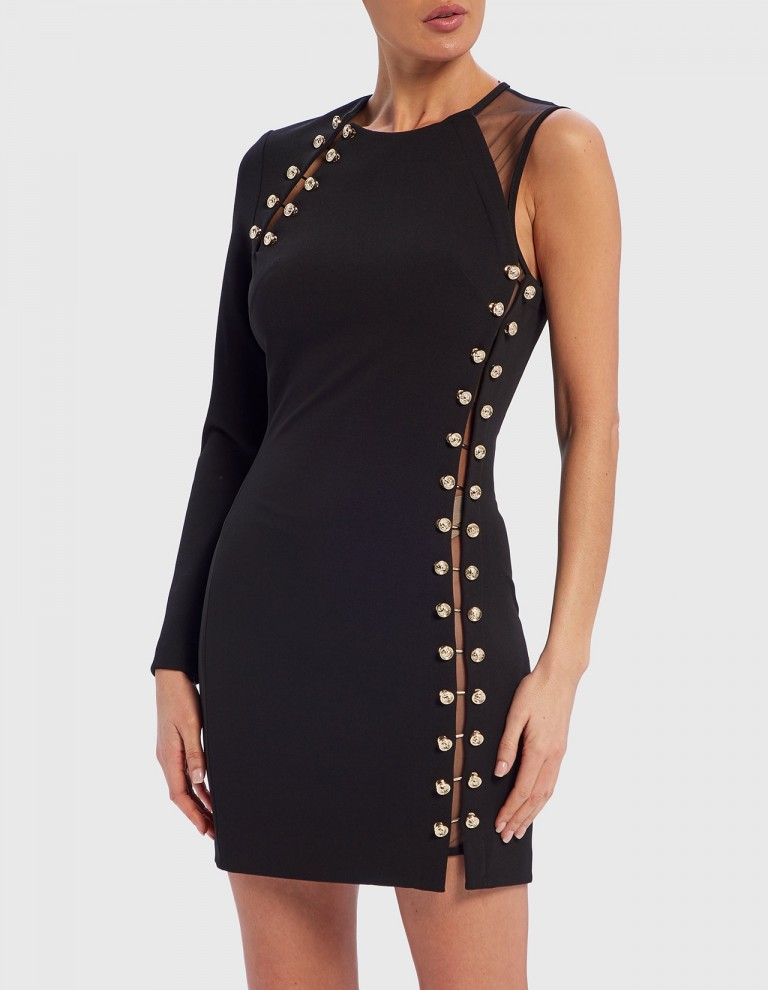C_dress: (163, 108, 585, 893)
